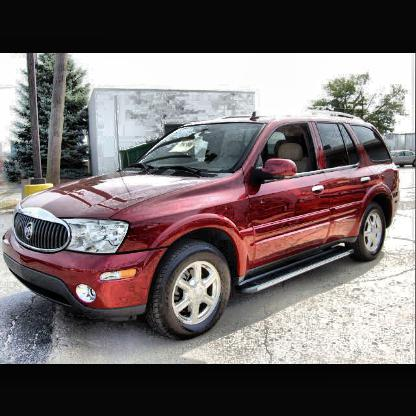Buick Rainier SUV 2007: (3, 112, 402, 342)
